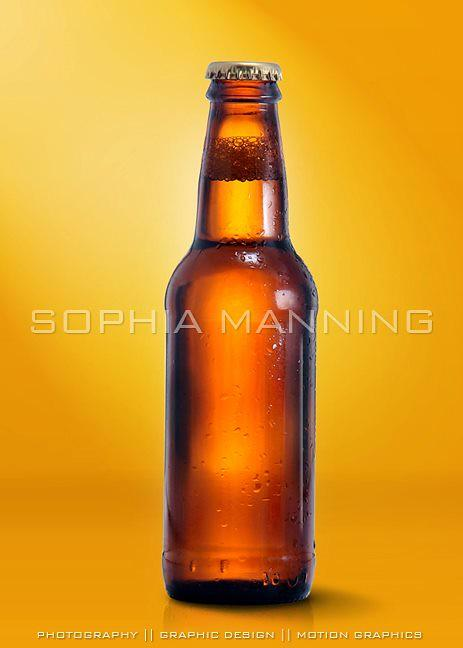bottle: (162, 61, 319, 606)
